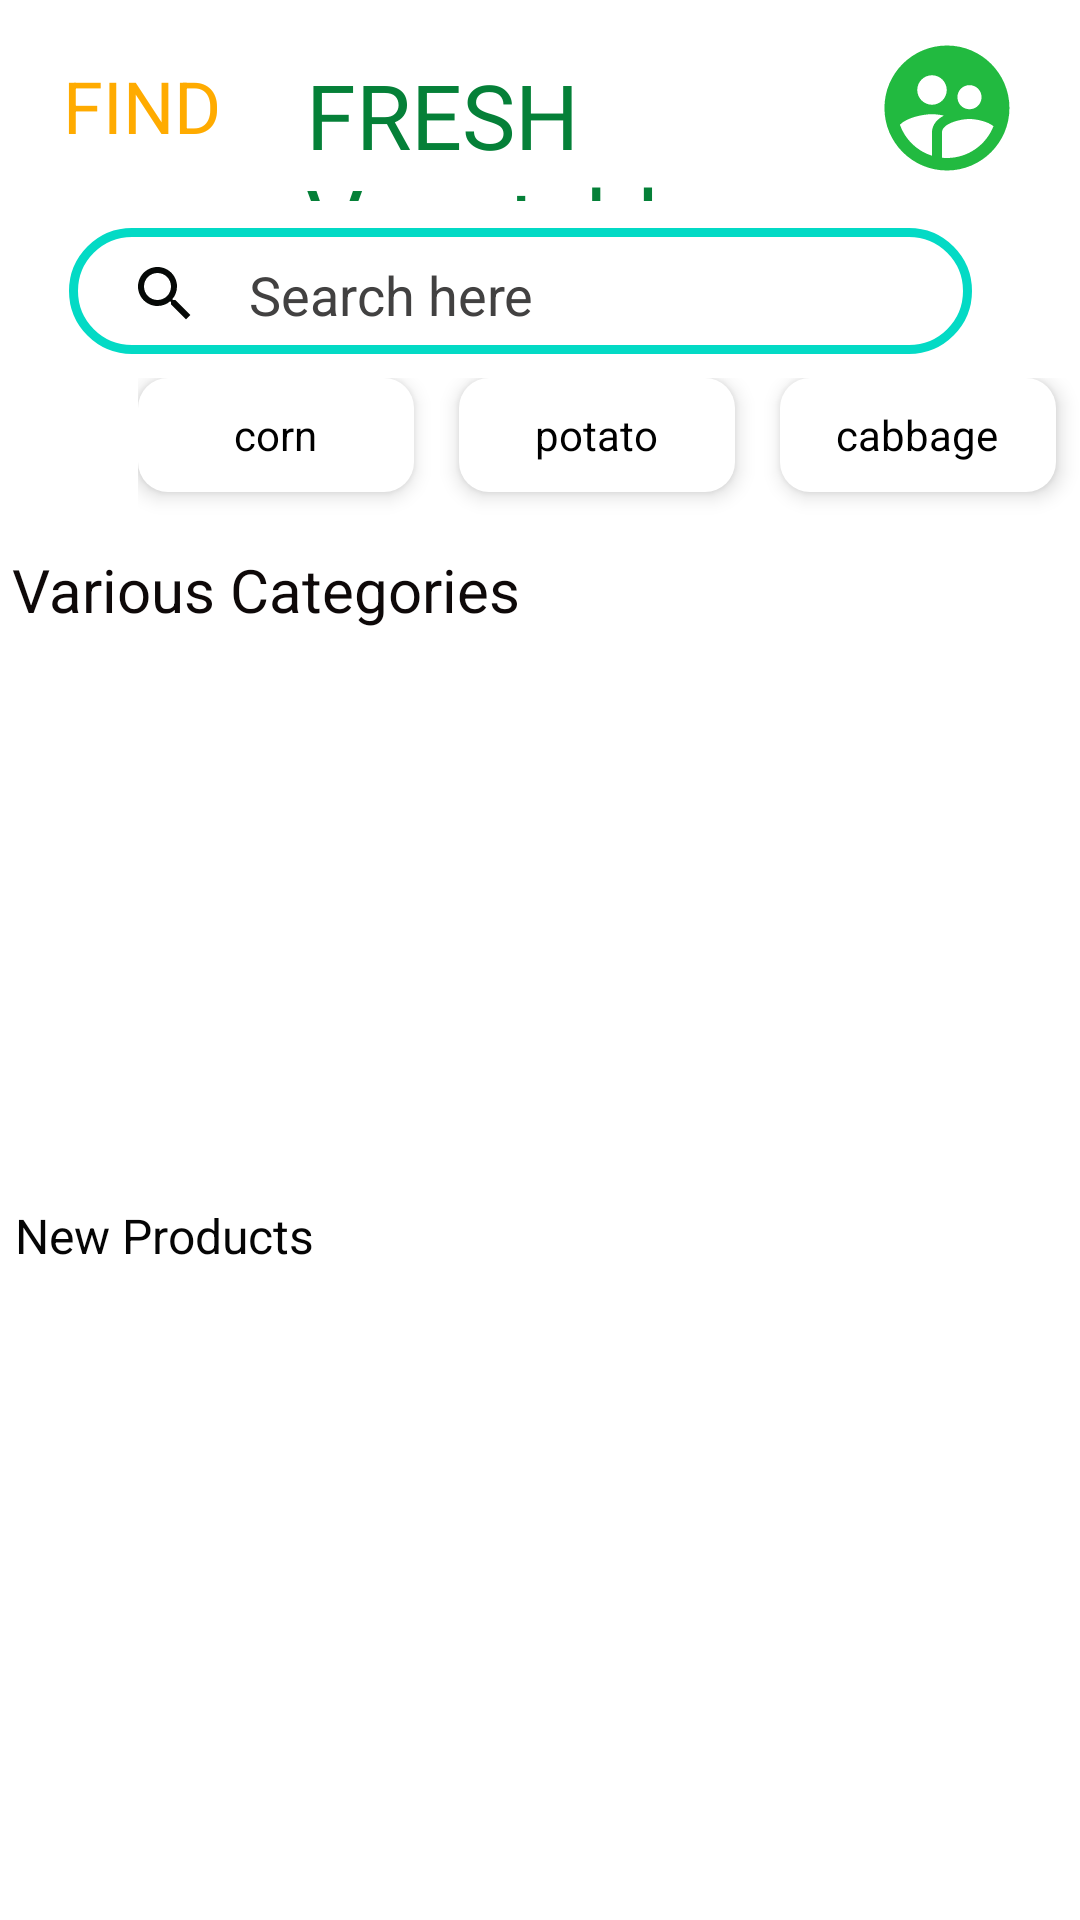

Screen size 1080px×1920px. Icon name, then its box in pixels as (x1, y1, x2, y2):
supervised user circle: (884, 45, 1010, 171)
